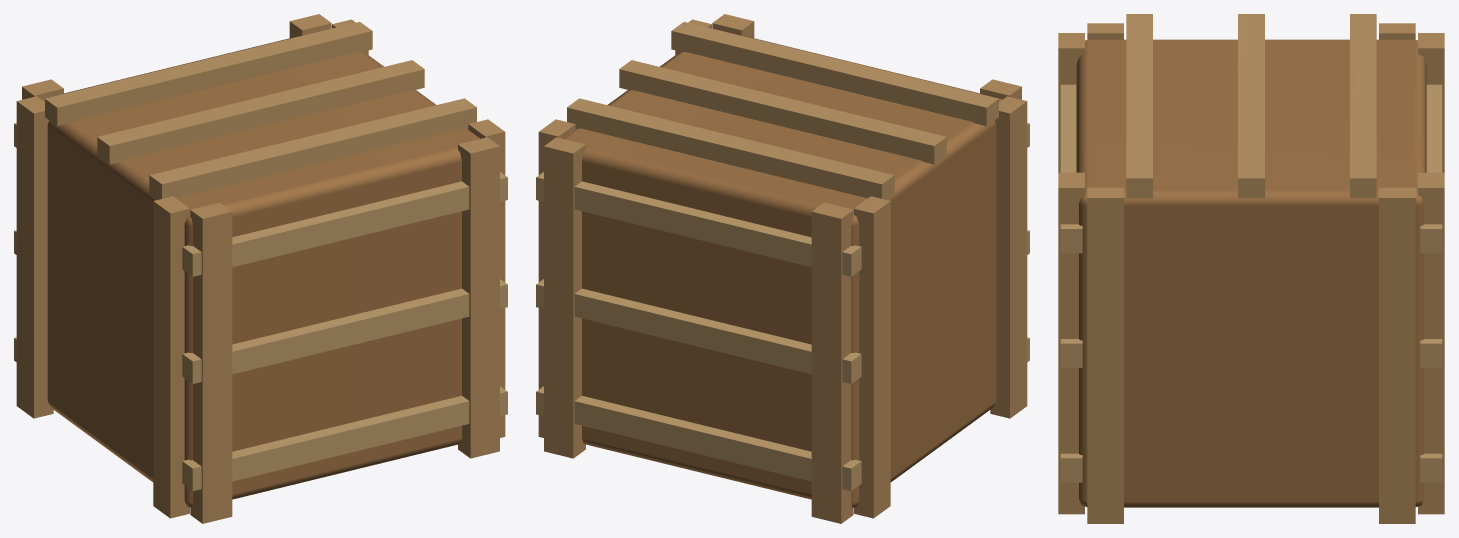
Rendered from crate.glb.
3 renders of one model, left to right at view 1: azimuth 30°, elevation 25°; view 2: azimuth 150°, elevation 25°; view 3: azimuth 270°, elevation 25°, orthographic. The views are drawn at different scales.
Size of the model in its own units: 0.85 by 0.7725 by 0.795.
